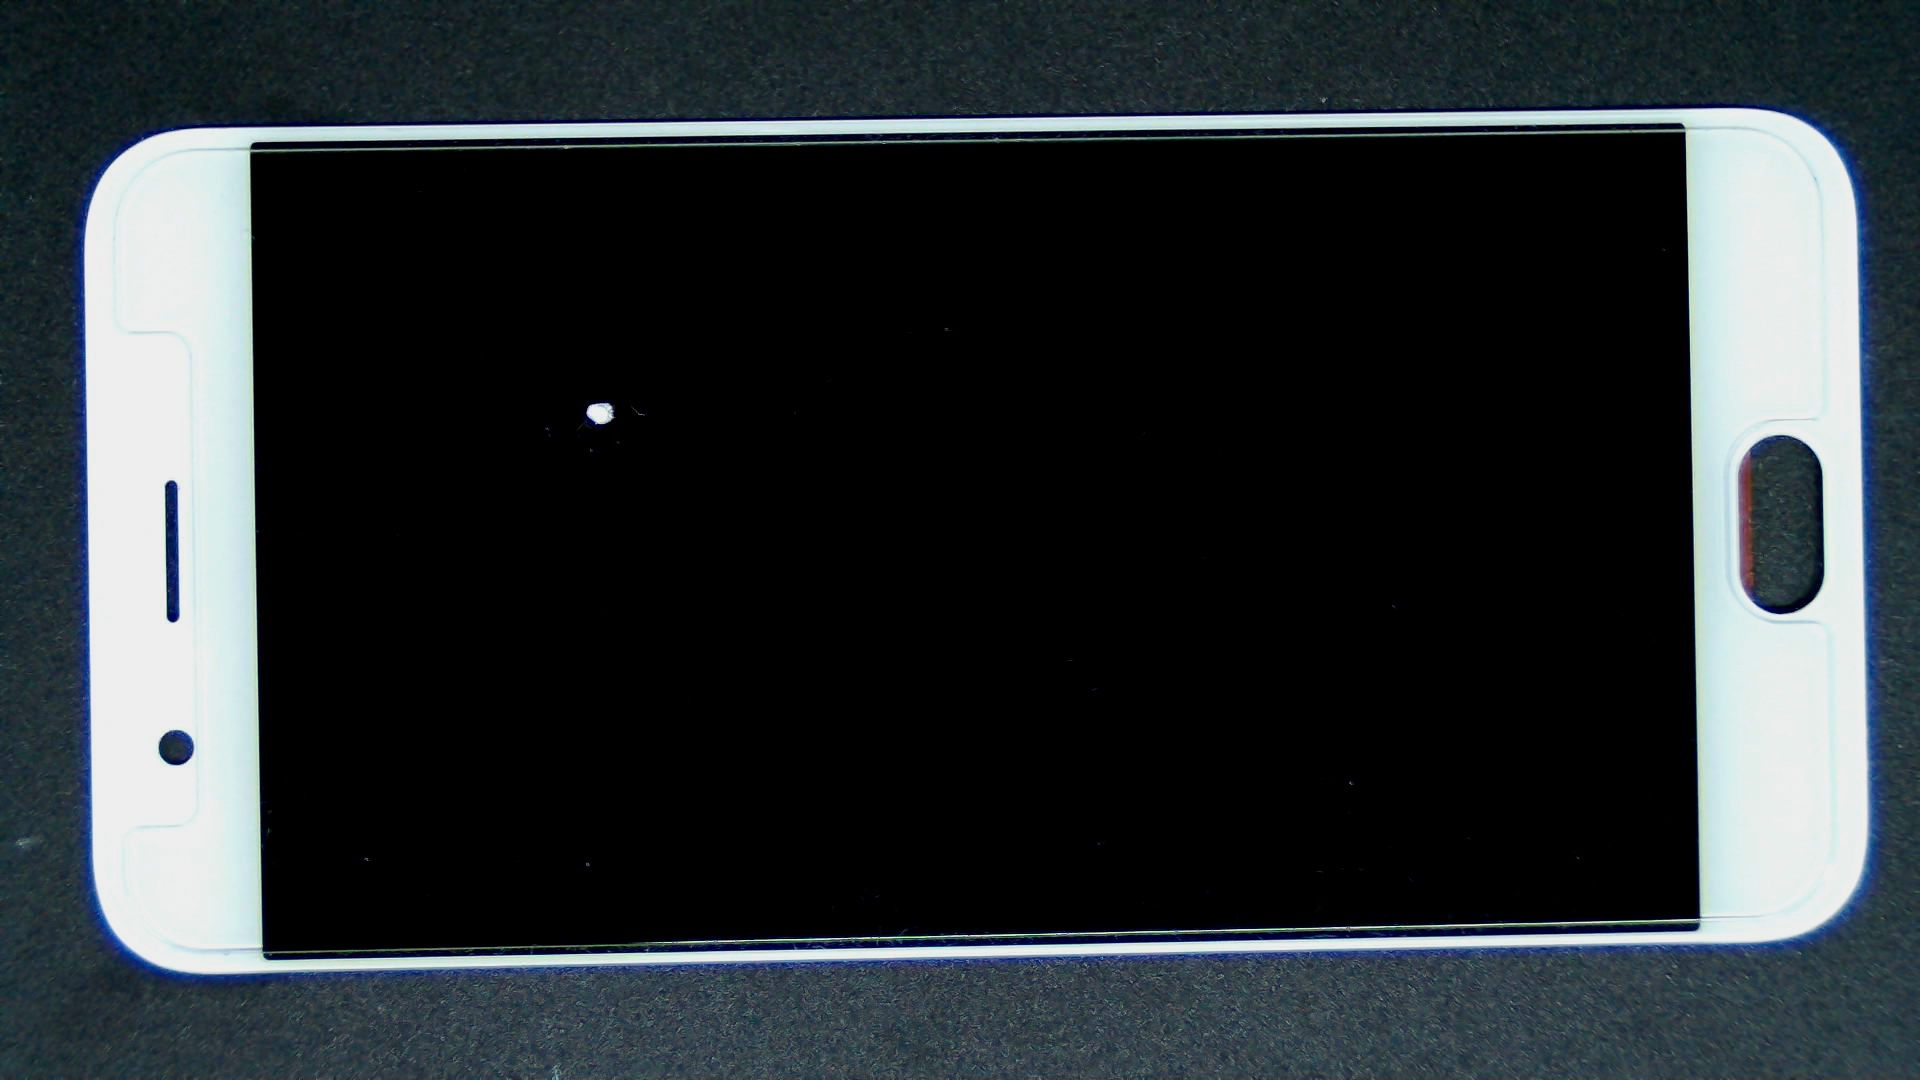oil: (302, 200, 905, 603)
